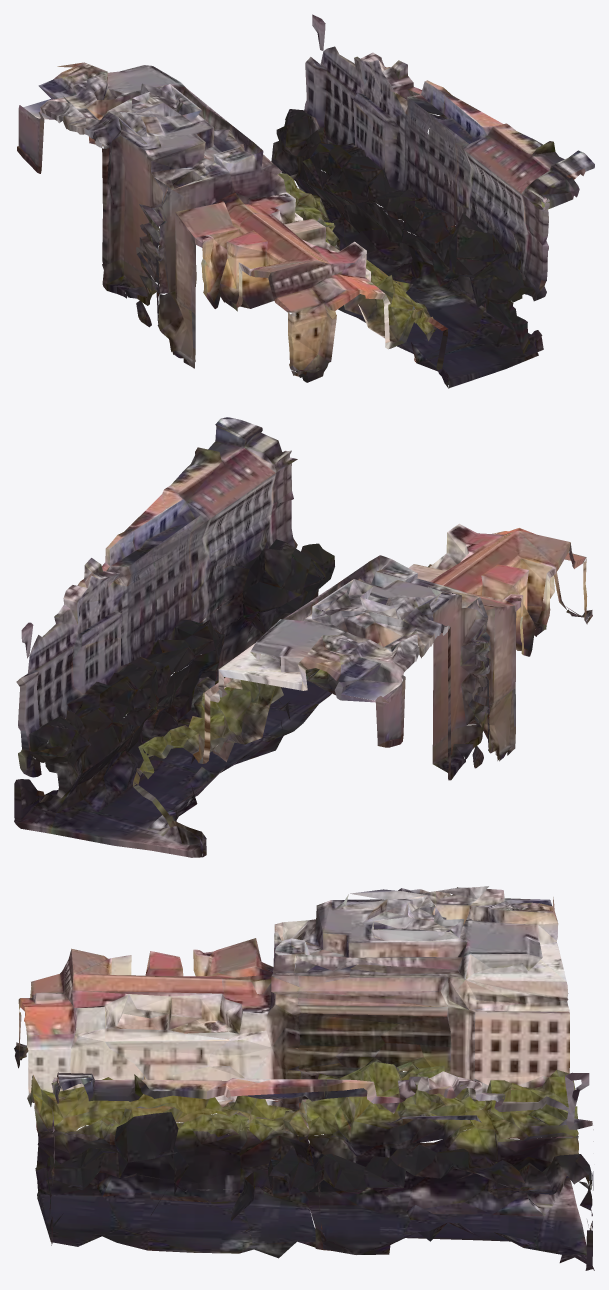
3 renders of one model, top to bottom at view 1: azimuth 30°, elevation 25°; view 2: azimuth 150°, elevation 25°; view 3: azimuth 270°, elevation 25°, orthographic. The views are drawn at different scales.
Parts seen in each view (by area): view 1: Mesh_0; view 2: Mesh_0; view 3: Mesh_0.
Part boxes in pixels (x1,y1,x2,y2): Mesh_0: [17, 14, 594, 388]; Mesh_0: [14, 417, 592, 857]; Mesh_0: [14, 886, 594, 1270].
Size of the model in its own units: 67.13 by 36.8 by 82.79.
Materials: 1 (1 with a texture image).
